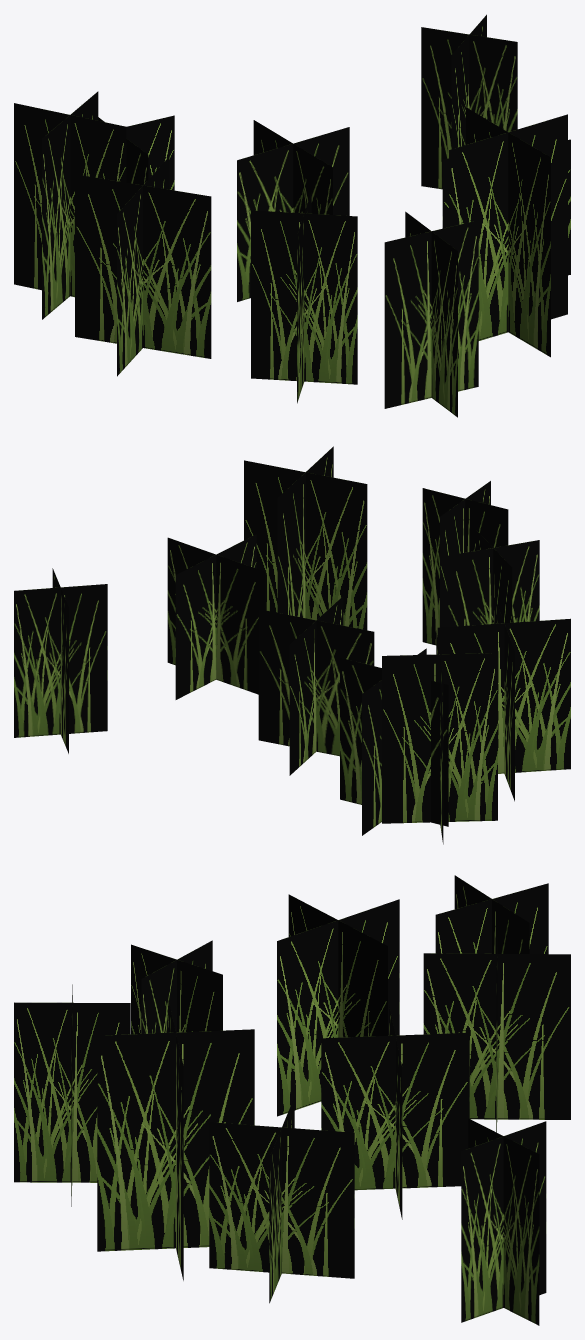
File: Grass_Tall_A.glb
The picture shows the model from 3 angles, top to bottom: view 1: azimuth 30°, elevation 25°; view 2: azimuth 150°, elevation 25°; view 3: azimuth 270°, elevation 25°; orthographic projection. The views are drawn at different scales.
Visible parts, largest first — view 1: Grass_Tall_A_LOD0; view 2: Grass_Tall_A_LOD0; view 3: Grass_Tall_A_LOD0.
Part boxes in pixels (<box>): Grass_Tall_A_LOD0: <box>14,14,570,417</box>; Grass_Tall_A_LOD0: <box>14,446,570,844</box>; Grass_Tall_A_LOD0: <box>14,875,570,1325</box>.
Size of what is drawn, in the model's own units: 2.33 by 0.9175 by 2.15.
Materials: 1 (1 with a texture image).
